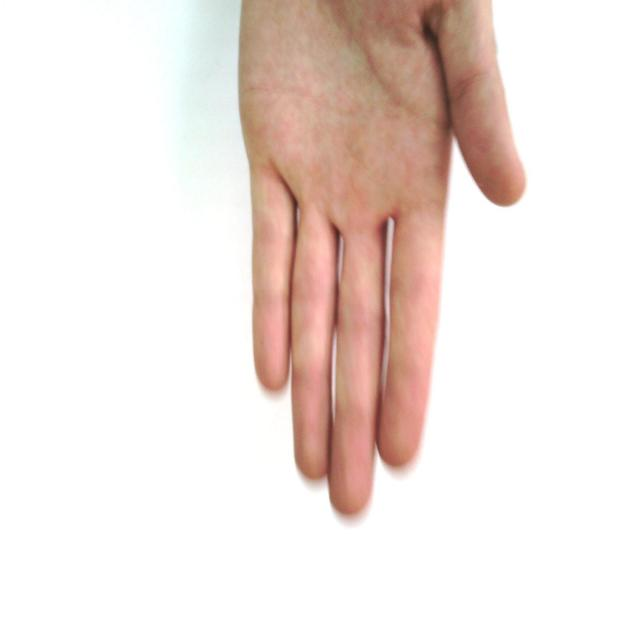others: (204, 1, 550, 524)
